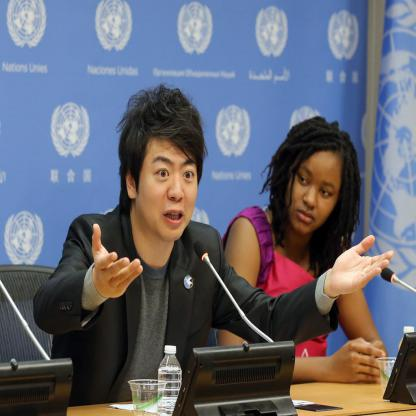face: (138, 132, 200, 242), (291, 152, 342, 234)
